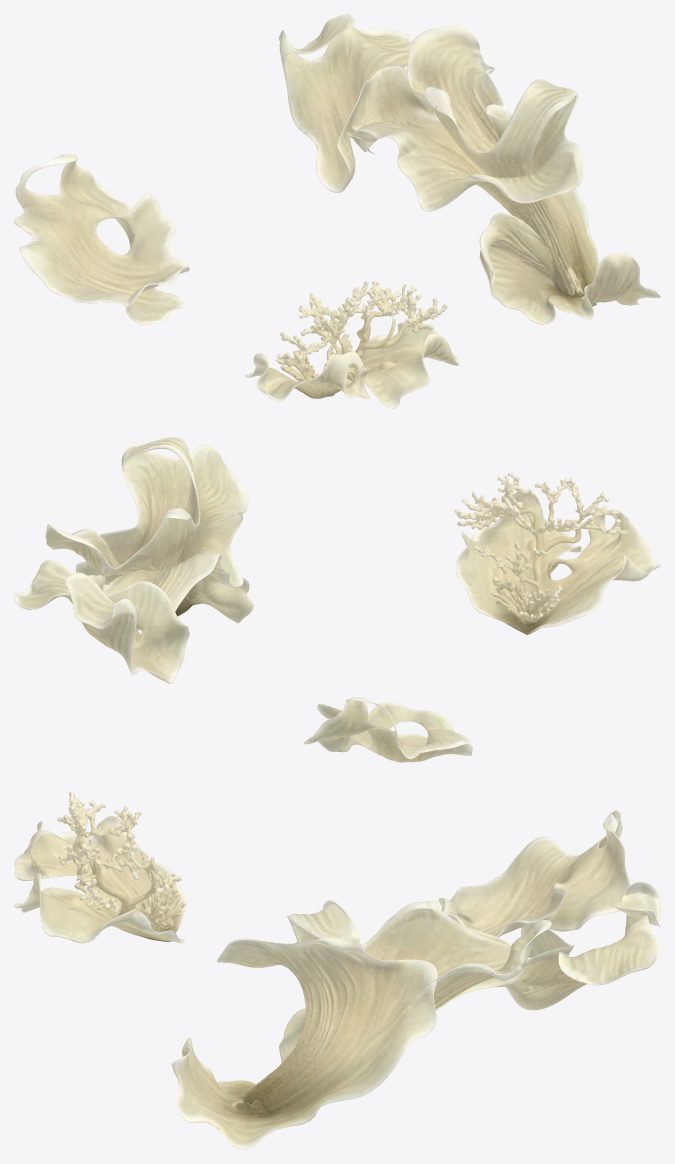
The model's file is liscie-mobile.glb.
3 renders of one model, top to bottom at view 1: azimuth 30°, elevation 25°; view 2: azimuth 150°, elevation 25°; view 3: azimuth 270°, elevation 25°, orthographic. The views are drawn at different scales.
Size of the model in its own units: 1.73 by 0.6988 by 1.9.
Materials: 1 (1 with a texture image).
